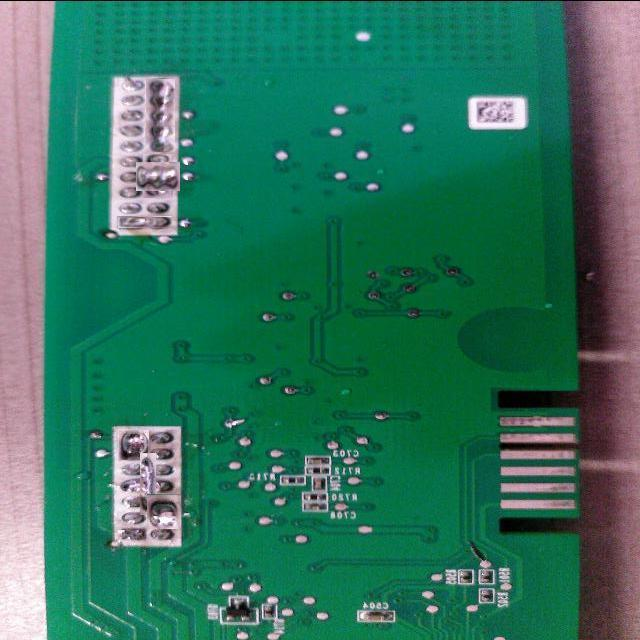Short_circuit: (145, 78, 175, 152), (128, 465, 167, 504), (140, 158, 177, 194), (146, 494, 182, 528), (118, 430, 149, 461), (117, 216, 172, 228)
